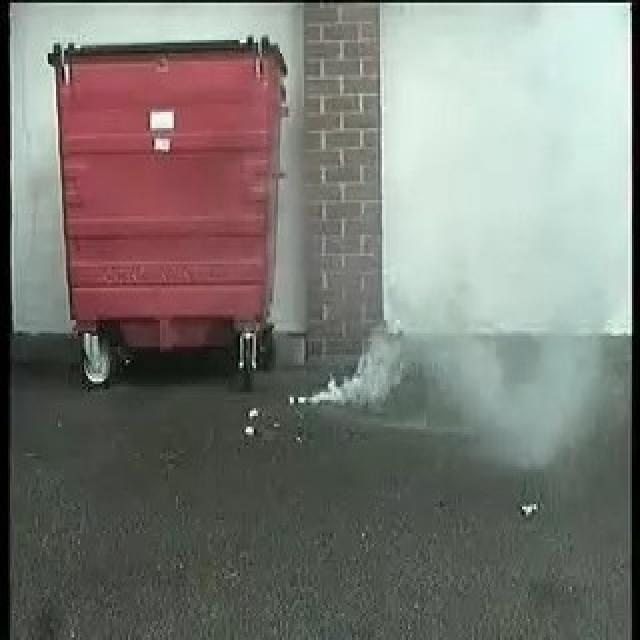smoke: (308, 323, 569, 434)
